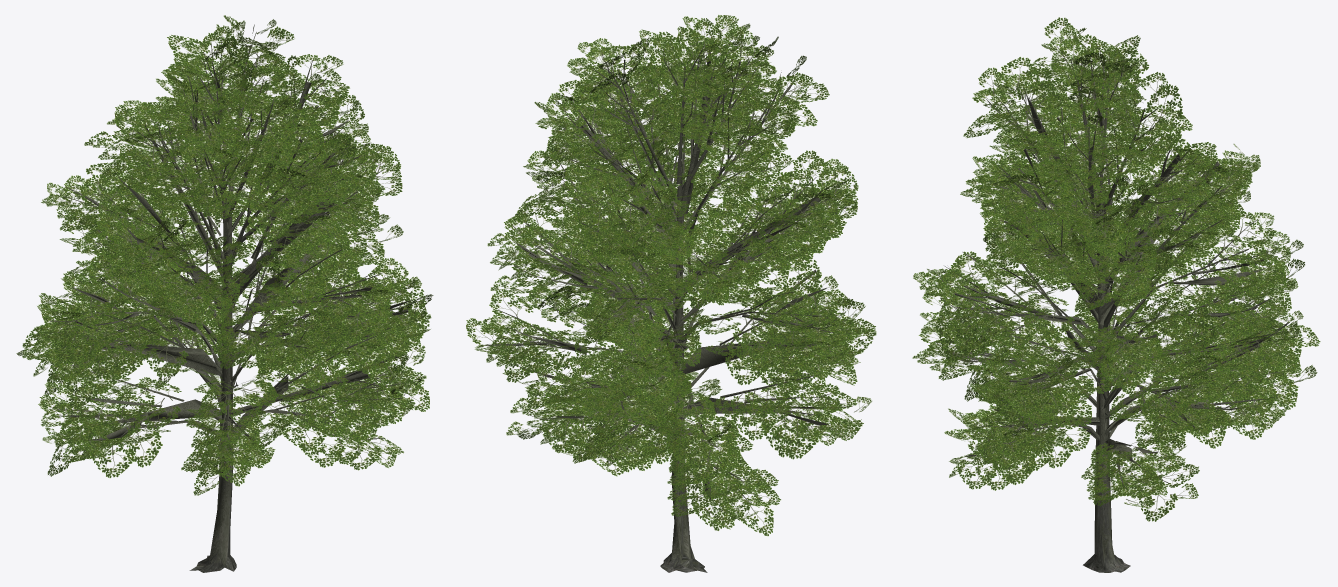
The model's file is tree_013.glb.
The picture shows the model from 3 angles, left to right: view 1: azimuth 30°, elevation 25°; view 2: azimuth 150°, elevation 25°; view 3: azimuth 270°, elevation 25°; orthographic projection. The views are drawn at different scales.
Parts seen in each view (by area): view 1: Tree_013; view 2: Tree_013; view 3: Tree_013.
Part boxes in pixels (left/top/right/bottom): Tree_013: left=16, top=15, right=433, bottom=572; Tree_013: left=466, top=15, right=876, bottom=572; Tree_013: left=912, top=17, right=1320, bottom=572.
Size of the model in its own units: 7.23 by 10.35 by 7.39.
2 materials, 2 textured.
